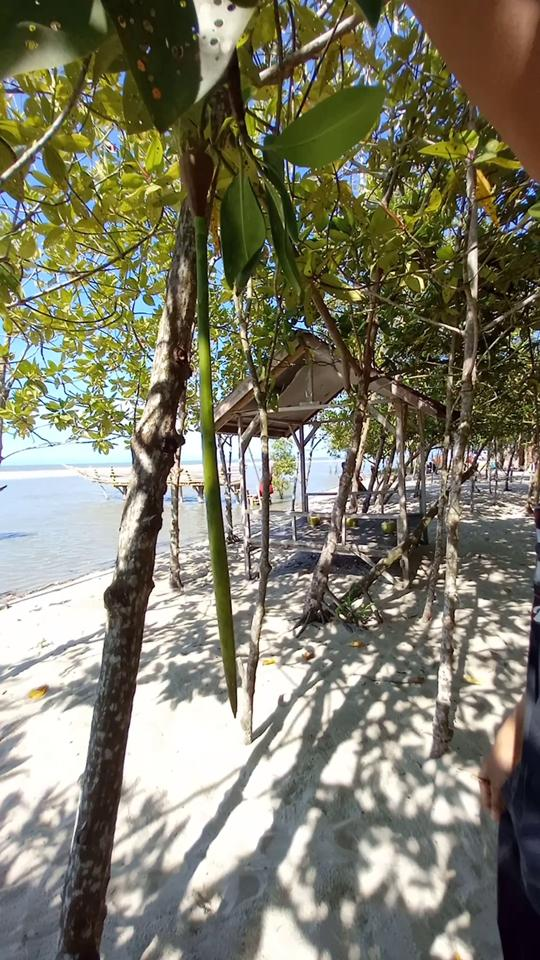setengah matang: (164, 126, 249, 726)
